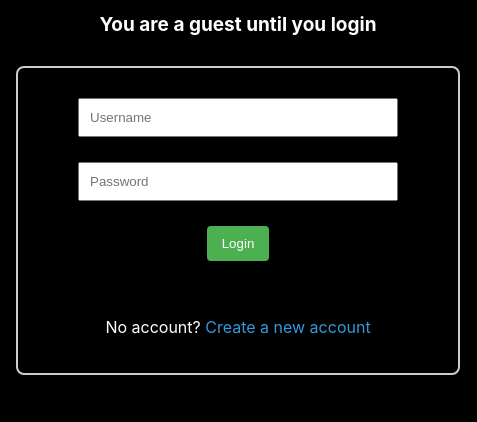
it: Login Component › should display error message on invalid login
Type "wronguser" into the field with placeholder "Username" at [238, 118], box [78, 98, 398, 137]
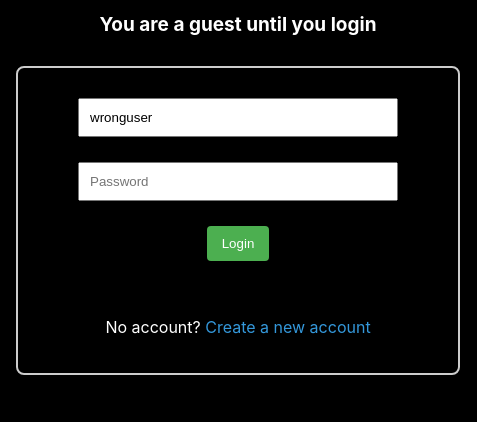
Type "wrongpass" into the password field with placeholder "Password" at [238, 182], box [78, 162, 398, 201]
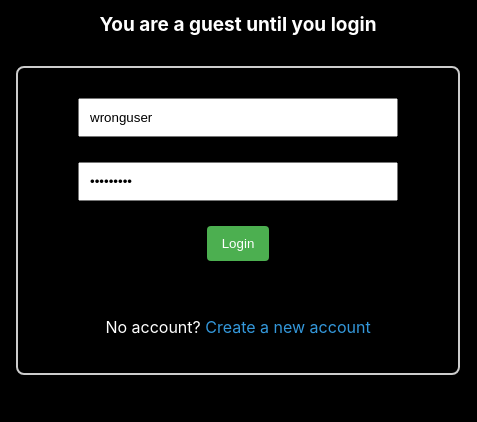
Click the button "Login" at [238, 244], box [207, 226, 269, 261]
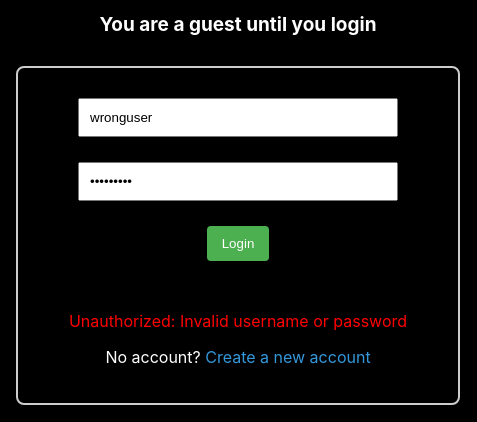
Expected: the text "Unauthorized: Invalid username or password" is shown, [69, 311, 407, 331]
